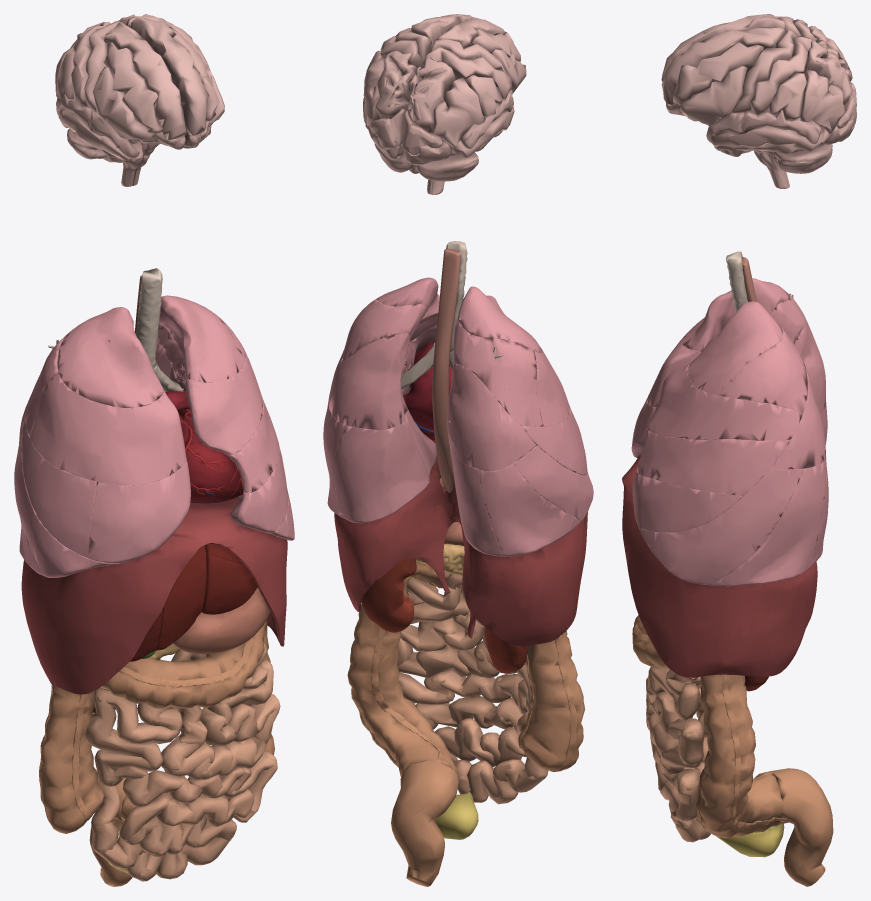
The model's file is organs.glb.
3 views of the same model, side by side, from view 1: azimuth 30°, elevation 25°; view 2: azimuth 150°, elevation 25°; view 3: azimuth 270°, elevation 25° (orthographic). The views are drawn at different scales.
Parts seen in each view (by area): view 1: lung-right, small-intestine, diaphragm, brain, lung-left, large-intestine, liver, heart, stomach, airways; view 2: lung-right, large-intestine, brain, lung-left, diaphragm, small-intestine, esophagus, kidney-left, heart, airways, bladder, kidney-right (+1 smaller); view 3: lung-left, brain, diaphragm, large-intestine, small-intestine, lung-right, bladder, airways.
Part boxes in pixels (bbox=[...]): lung-right: bbox=[14, 307, 190, 577]; small-intestine: bbox=[85, 643, 280, 881]; diaphragm: bbox=[21, 497, 287, 694]; brain: bbox=[55, 14, 224, 186]; lung-left: bbox=[155, 295, 294, 540]; large-intestine: bbox=[39, 620, 274, 886]; liver: bbox=[129, 544, 257, 661]; heart: bbox=[165, 391, 243, 503]; stomach: bbox=[173, 587, 270, 653]; airways: bbox=[48, 268, 186, 391]; lung-right: bbox=[447, 286, 593, 556]; large-intestine: bbox=[347, 561, 584, 886]; brain: bbox=[363, 14, 526, 194]; lung-left: bbox=[323, 277, 439, 523]; diaphragm: bbox=[334, 440, 587, 646]; small-intestine: bbox=[397, 573, 548, 804]; esophagus: bbox=[432, 248, 461, 492]; kidney-left: bbox=[361, 558, 416, 632]; heart: bbox=[403, 342, 452, 440]; airways: bbox=[388, 241, 508, 422]; bladder: bbox=[434, 792, 478, 839]; kidney-right: bbox=[484, 627, 528, 673]; lung-left: bbox=[632, 301, 828, 586]; brain: bbox=[661, 14, 856, 188]; diaphragm: bbox=[622, 455, 817, 677]; large-intestine: bbox=[632, 615, 833, 886]; small-intestine: bbox=[646, 666, 710, 842]; lung-right: bbox=[631, 278, 827, 457]; bladder: bbox=[716, 823, 784, 857]; airways: bbox=[726, 251, 793, 333].
Size of the model in its own units: 0.2551 by 0.8723 by 0.2155.
